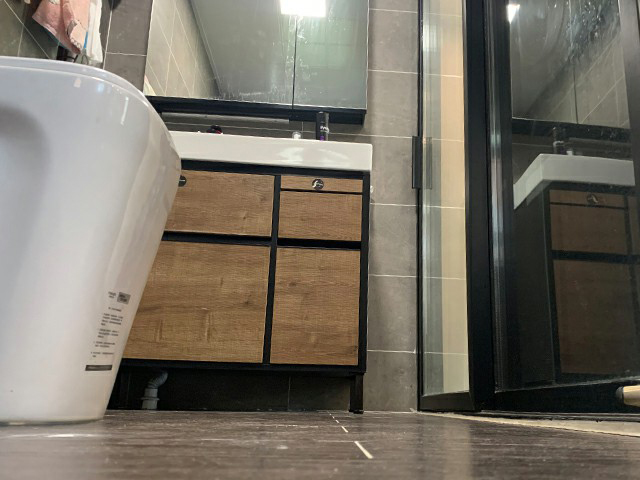cabinet: (123, 129, 374, 415)
closestool: (1, 56, 182, 427)
